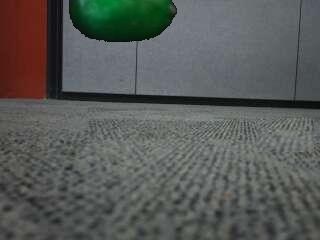Lime: (67, 0, 178, 44)
